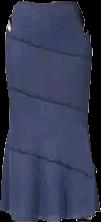Hemline: (0, 209, 100, 221)
Waistline: (4, 143, 95, 178), (6, 29, 90, 60), (6, 83, 89, 114), (18, 0, 77, 4)
